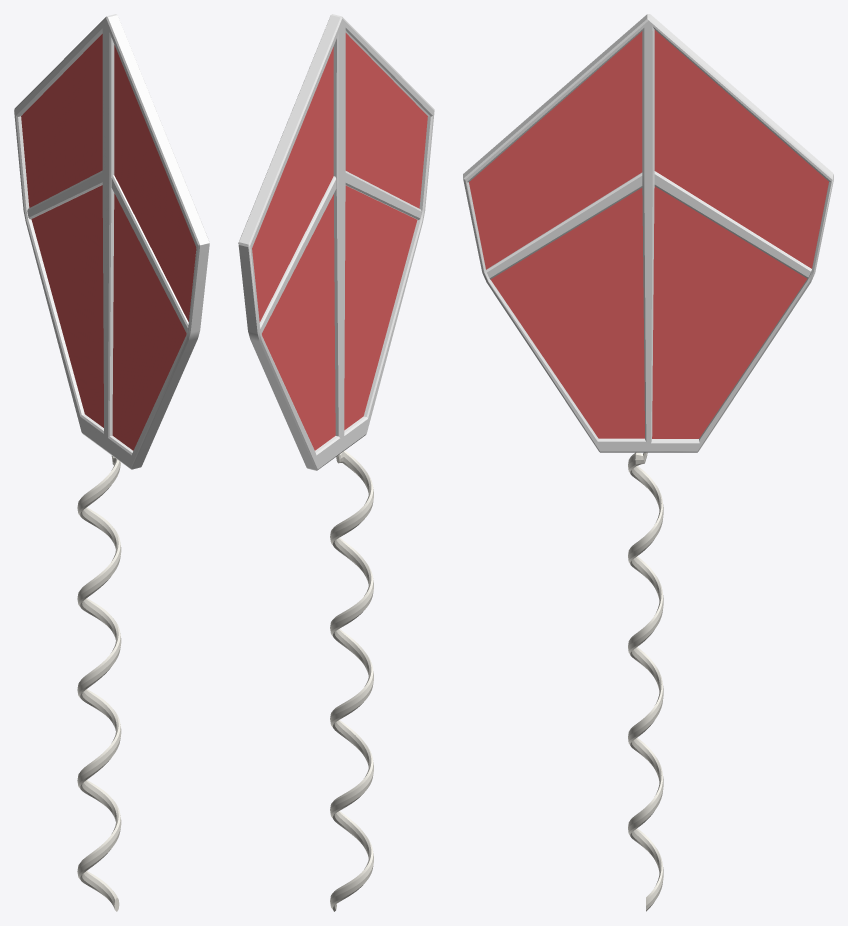
Rendered from Kite_1.fbx.
3 renders of one model, left to right at view 1: azimuth 30°, elevation 25°; view 2: azimuth 150°, elevation 25°; view 3: azimuth 270°, elevation 25°, orthographic.
Parts seen in each view (by area): view 1: Kite; view 2: Kite; view 3: Kite.
Boxes of the visible parts, <box> form: Kite: <box>14,14,209,911</box>; Kite: <box>238,14,434,911</box>; Kite: <box>463,14,833,911</box>.
Bounding box in the file's own units: 0.5592 × 11.93 × 4.48.
